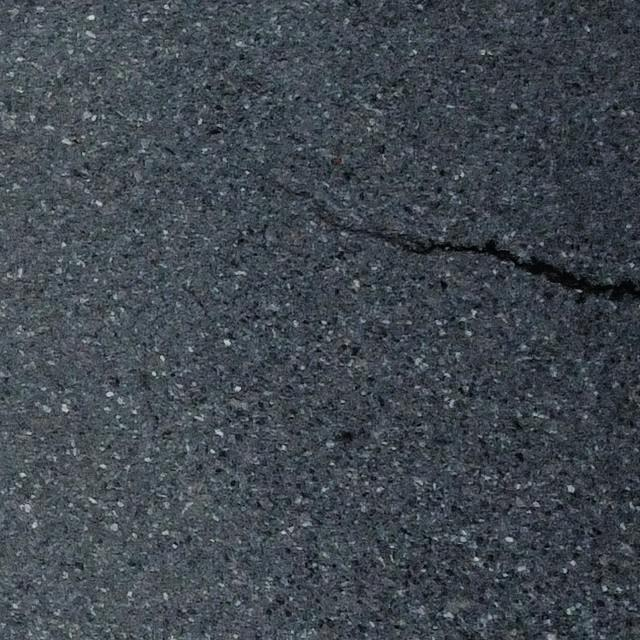TransverseCrack: (306, 191, 640, 301)
